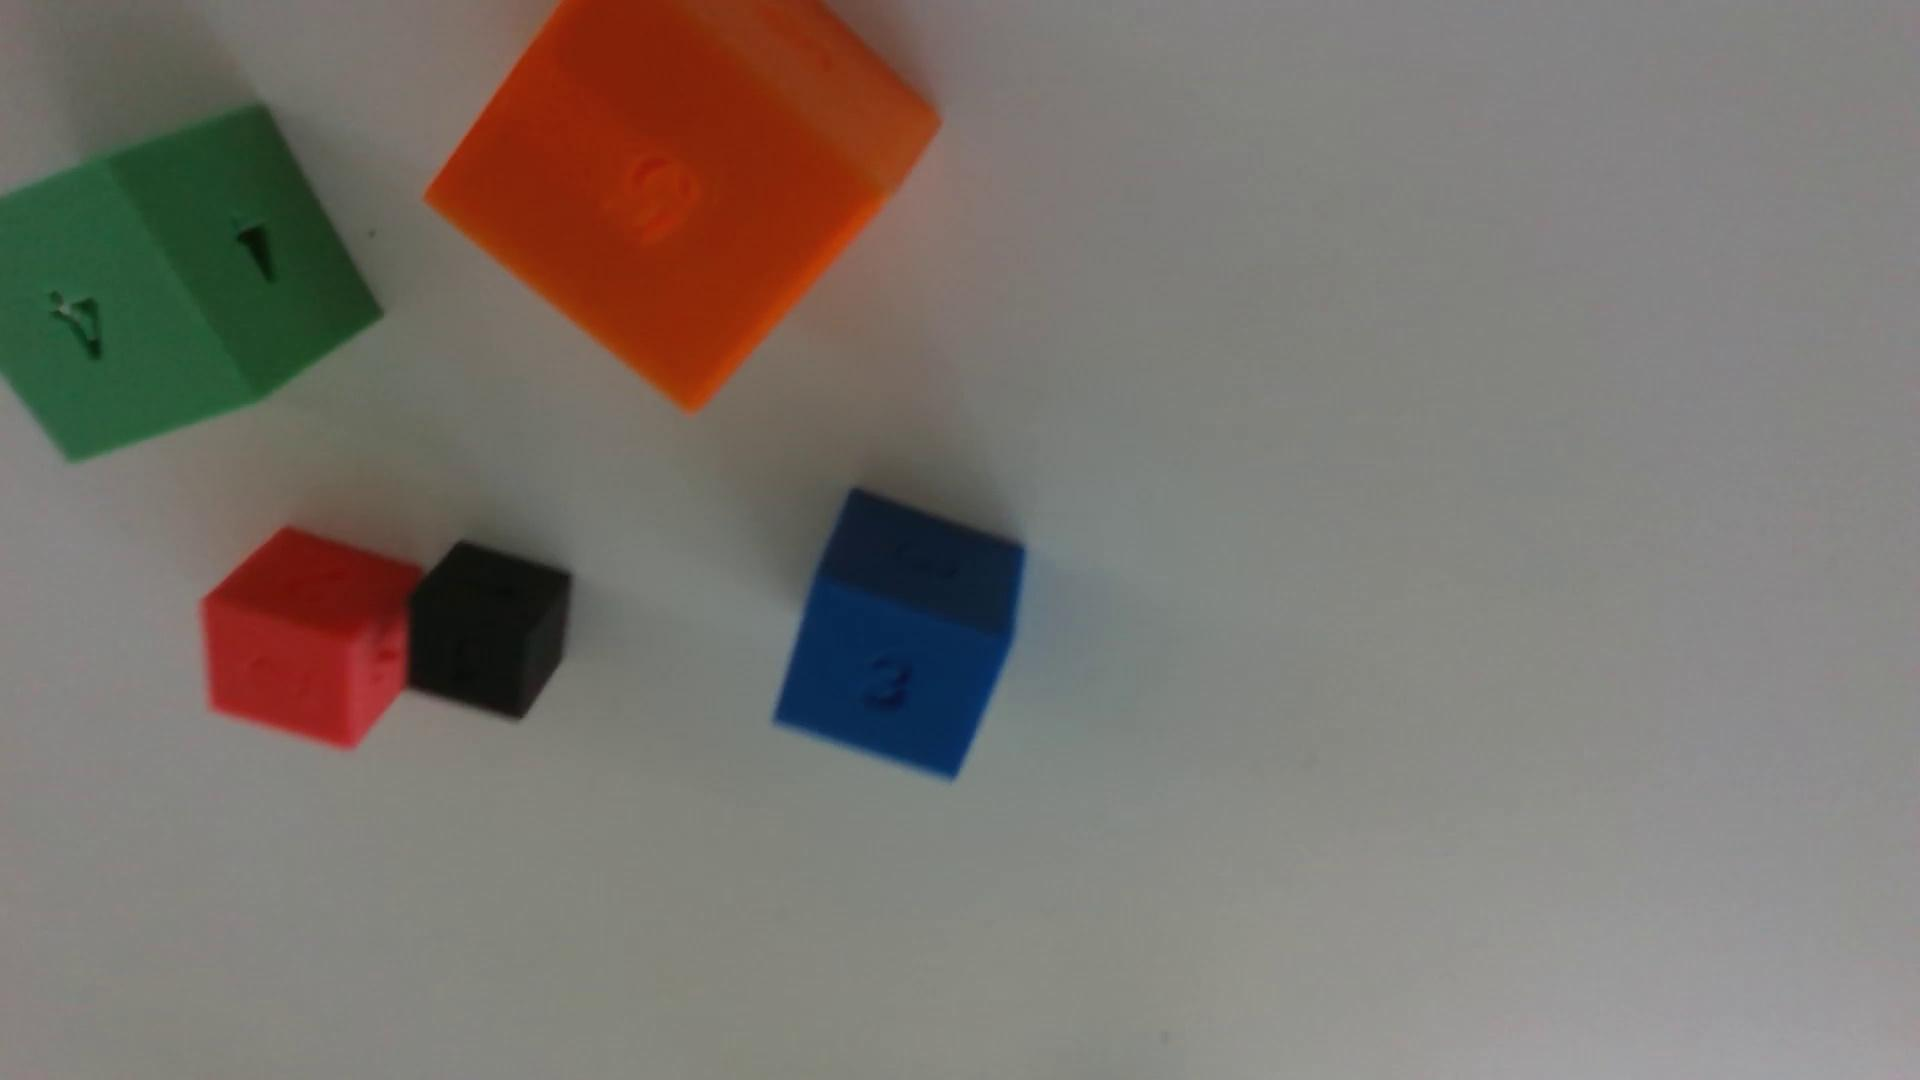black: (407, 541, 574, 719)
blue: (775, 489, 1025, 777)
green: (0, 105, 382, 459)
orange: (425, 0, 942, 410)
red: (202, 527, 422, 748)
